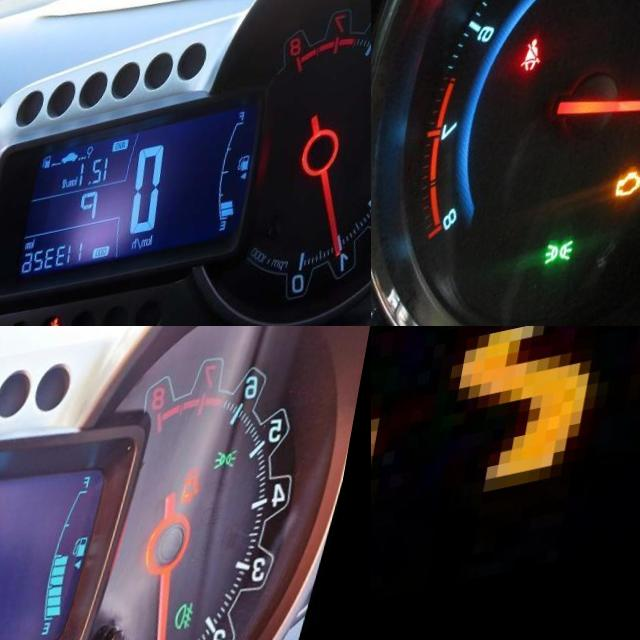FrontFogLight: (189, 619, 214, 640)
SideLamp: (564, 253, 595, 281), (224, 466, 252, 494)
